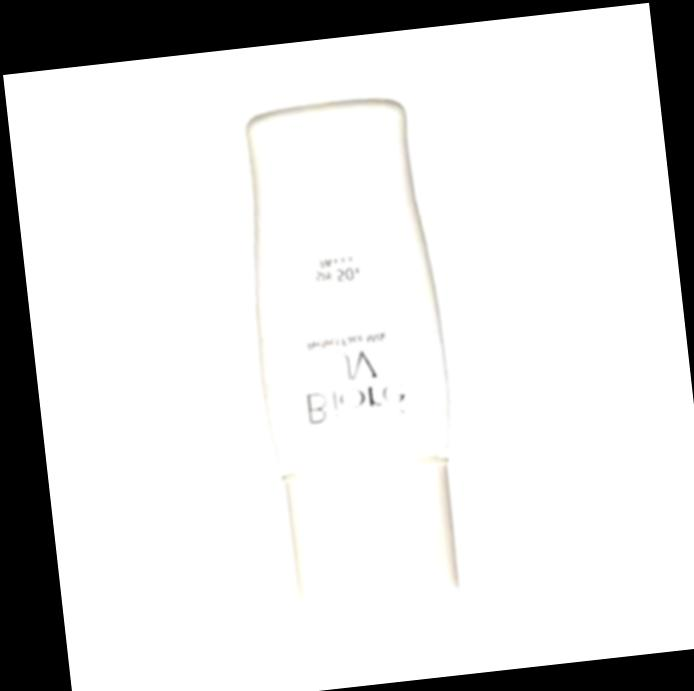cosmetic: (237, 91, 473, 613)
